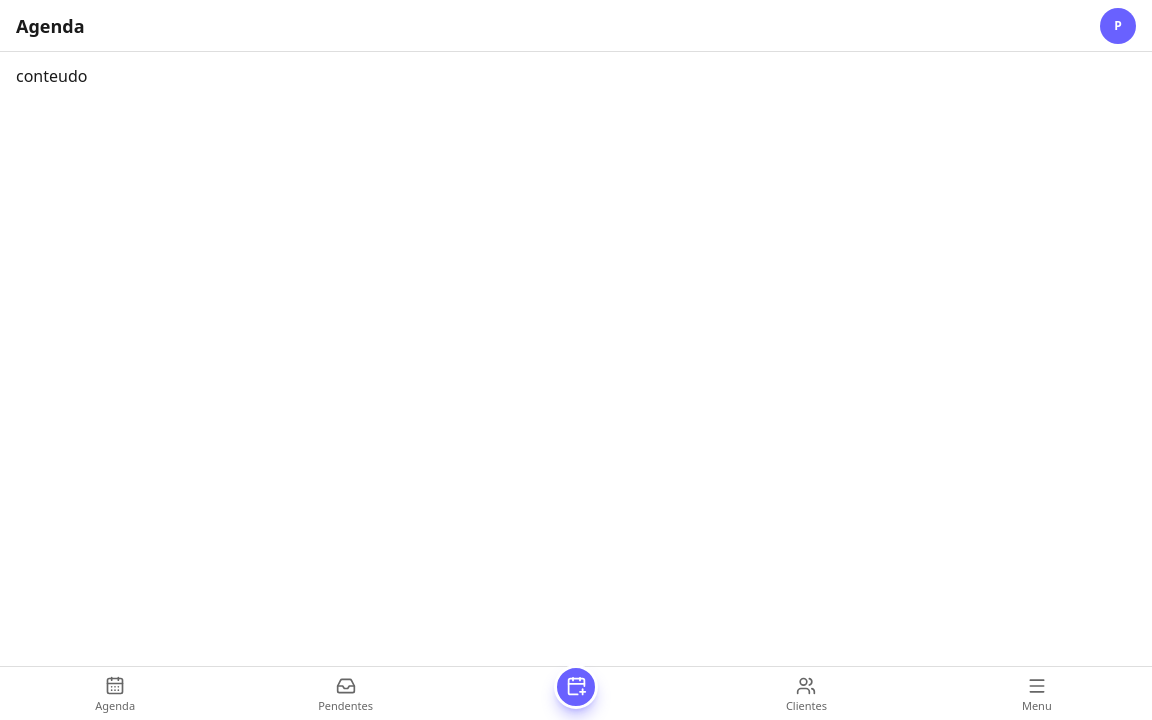
Scenario: AppShell › mobile: drawer respeita permissões — Financeiro só para quem tem o módulo
Click the button with aria-label "abrir menu" at (1037, 695), box left=922, top=676, right=1151, bottom=714
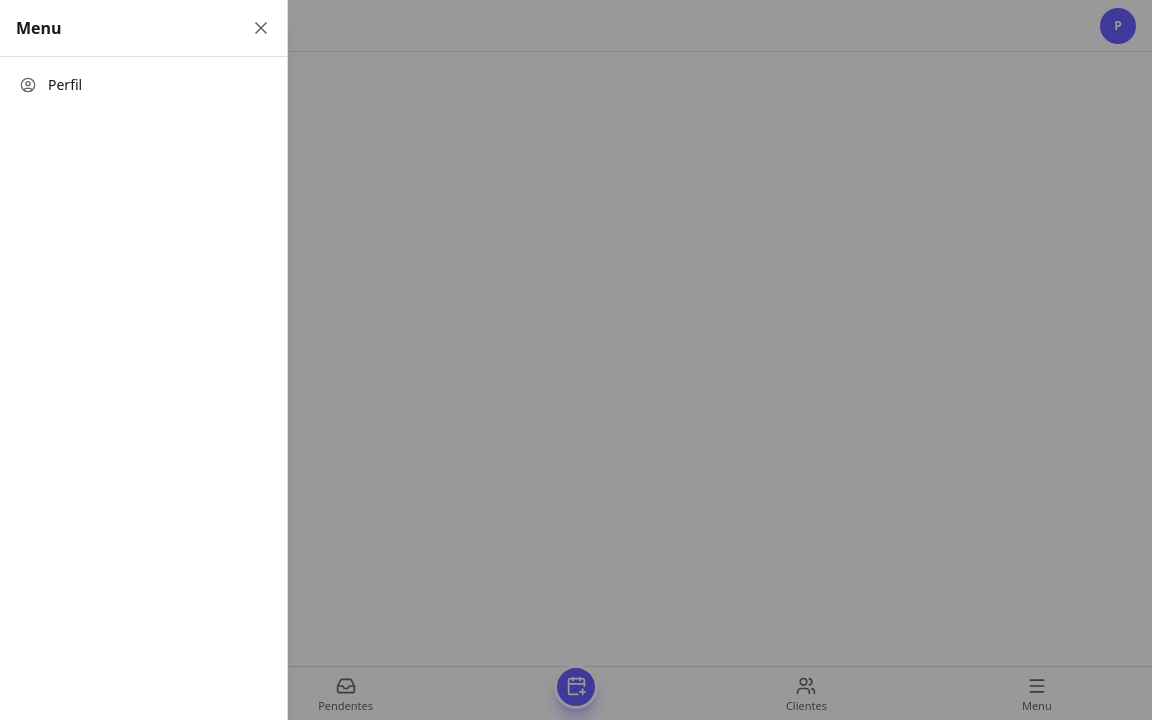
Result: the button "Perfil" is shown at left=8, top=65, right=279, bottom=105
